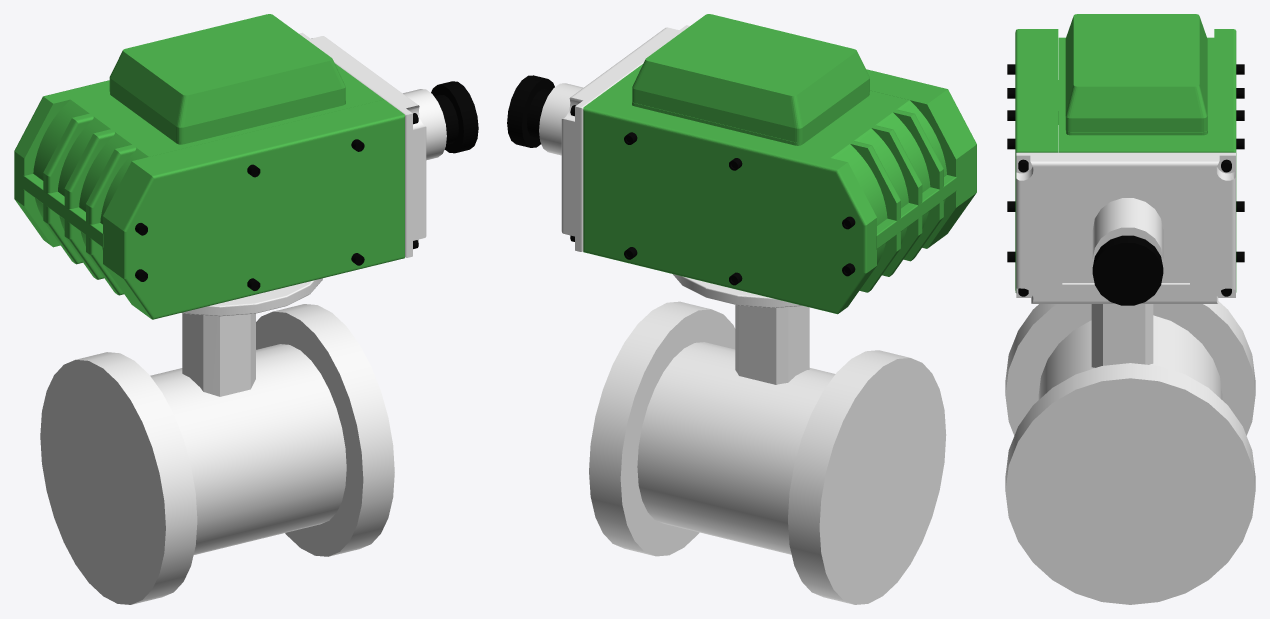
3 renders of one model, left to right at view 1: azimuth 30°, elevation 25°; view 2: azimuth 150°, elevation 25°; view 3: azimuth 270°, elevation 25°, orthographic.
Parts seen in each view (by area): view 1: 电动阀门, 连接管, Obj3d66-1437639-14-690, Cylinder003, 螺母; view 2: 电动阀门, 连接管, Obj3d66-1437639-14-690, Cylinder003, 螺母; view 3: 连接管, 电动阀门, Obj3d66-1437639-14-690, Cylinder003, 螺母.
Part boxes in pixels (x1,y1,x2,y2): 电动阀门: (14, 14, 404, 319); 连接管: (40, 278, 394, 604); Obj3d66-1437639-14-690: (299, 32, 446, 257); Cylinder003: (431, 81, 478, 153); 螺母: (135, 113, 418, 290); 电动阀门: (583, 14, 976, 314); 连接管: (589, 274, 946, 604); Obj3d66-1437639-14-690: (539, 25, 689, 251); Cylinder003: (507, 75, 554, 147); 螺母: (570, 105, 855, 285); 连接管: (1005, 301, 1255, 604); 电动阀门: (1015, 14, 1236, 292); Obj3d66-1437639-14-690: (1016, 152, 1235, 303); Cylinder003: (1092, 235, 1163, 305); 螺母: (1007, 64, 1244, 296).
Bounding box in the file's own units: 61.96 × 76.48 × 34.29.
